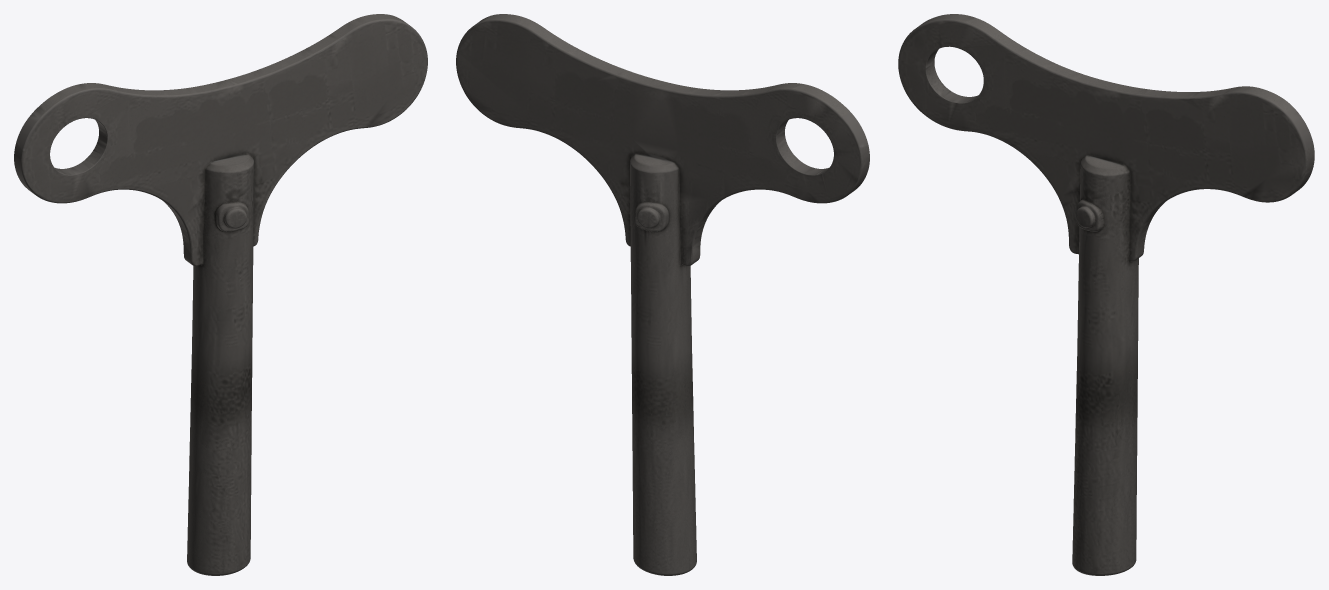
Rendered from ClefPion.fbx.
3 renders of one model, left to right at view 1: azimuth 30°, elevation 25°; view 2: azimuth 150°, elevation 25°; view 3: azimuth 330°, elevation 25°, orthographic.
Parts seen in each view (by area): view 1: Mesh_0; view 2: Mesh_0; view 3: Mesh_0.
Boxes of the visible parts, x1,y1,x2,y2 form: Mesh_0: [14, 14, 427, 575]; Mesh_0: [456, 14, 869, 575]; Mesh_0: [898, 14, 1314, 575].
Bounding box in the file's own units: 158 × 190 × 27.64.
1 material, 1 textured.
